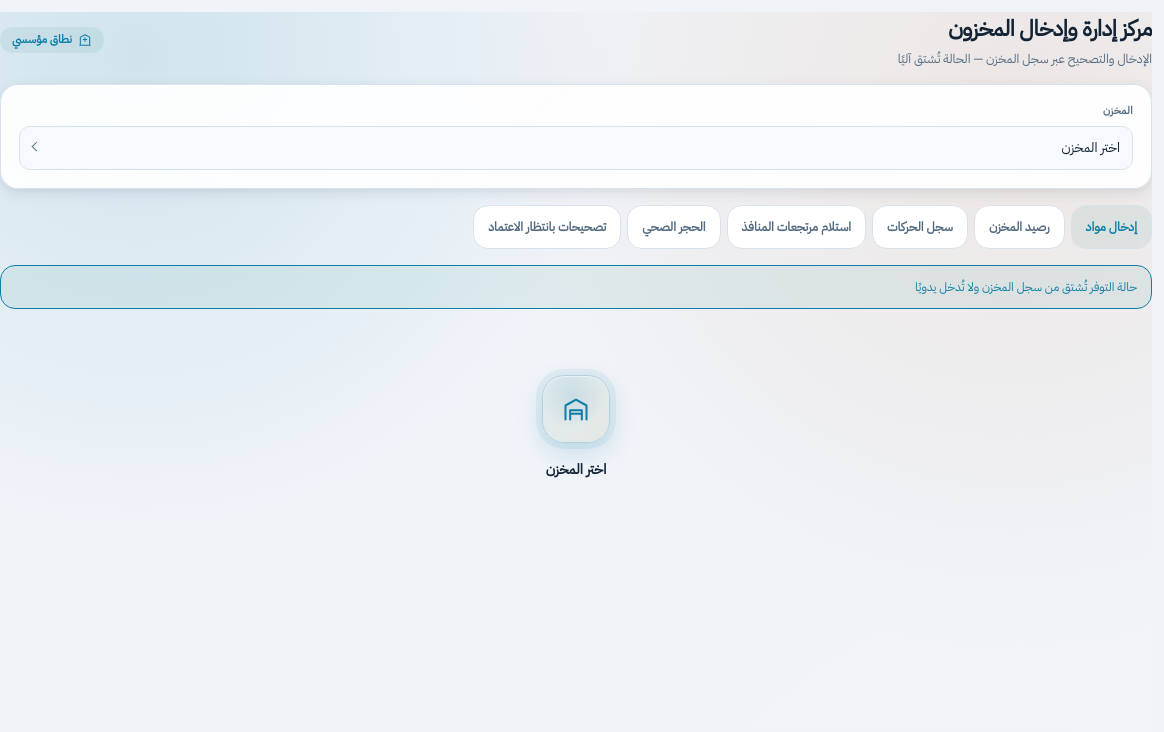
Test: reproduction — how B settling resolves (denied / failed / stale-after-fresh) › B denies the permission: no dispose affordance appears once B answers
Select "مخزن wh-A" in the dropdown labelled "المخزن" at (576, 148), box [19, 126, 1133, 170]
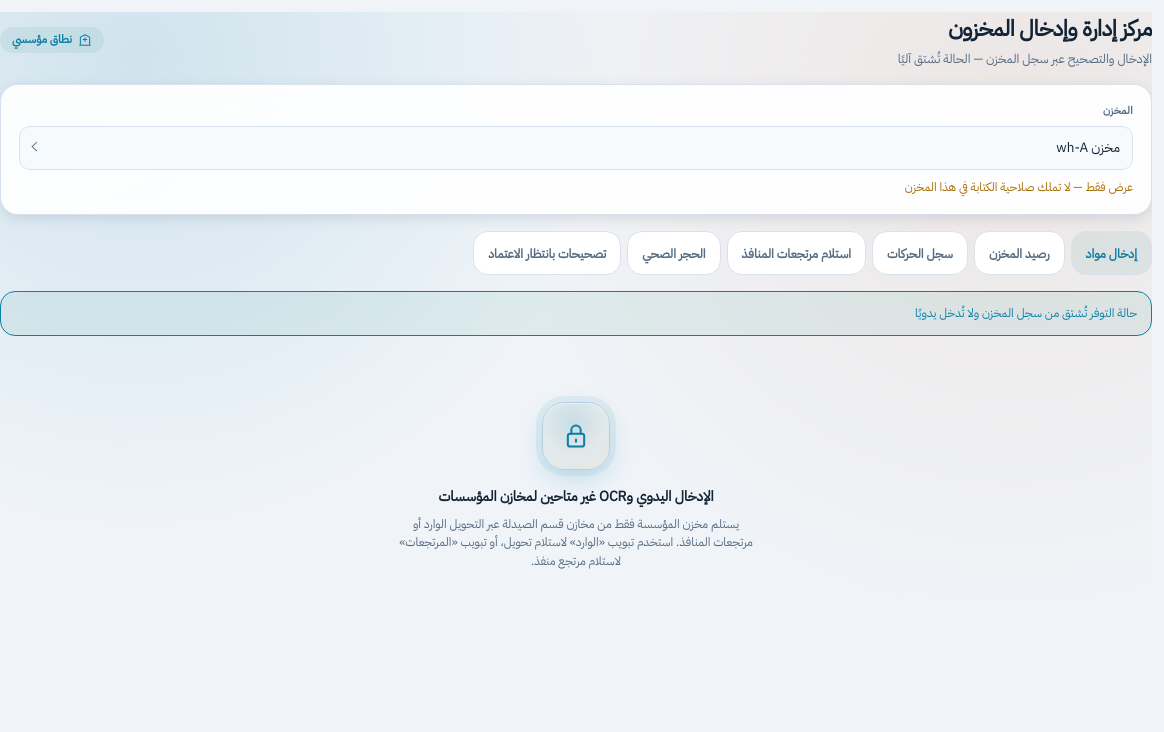
Click the tab "الحجر الصحي" at (674, 253), box [627, 231, 721, 275]
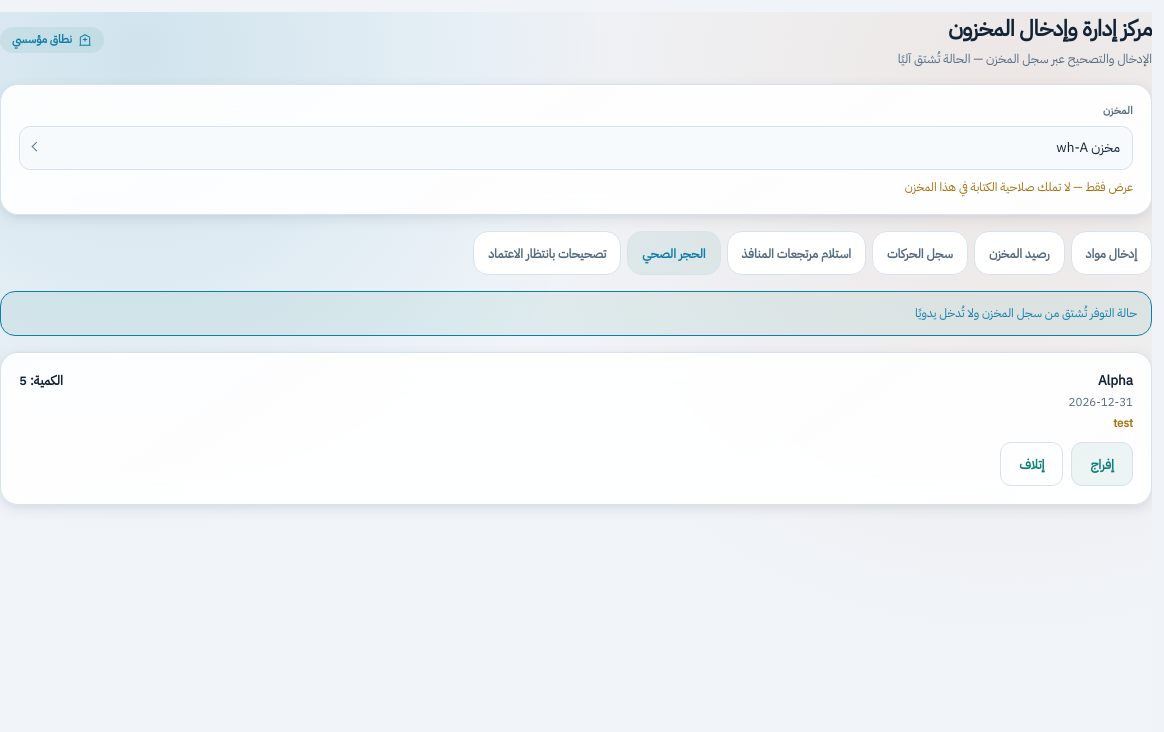
Check: the button "إفراج" is shown, box [1072, 442, 1133, 486]
Select "مخزن wh-B" in the dropdown labelled "المخزن" at (576, 148), box [19, 126, 1133, 170]
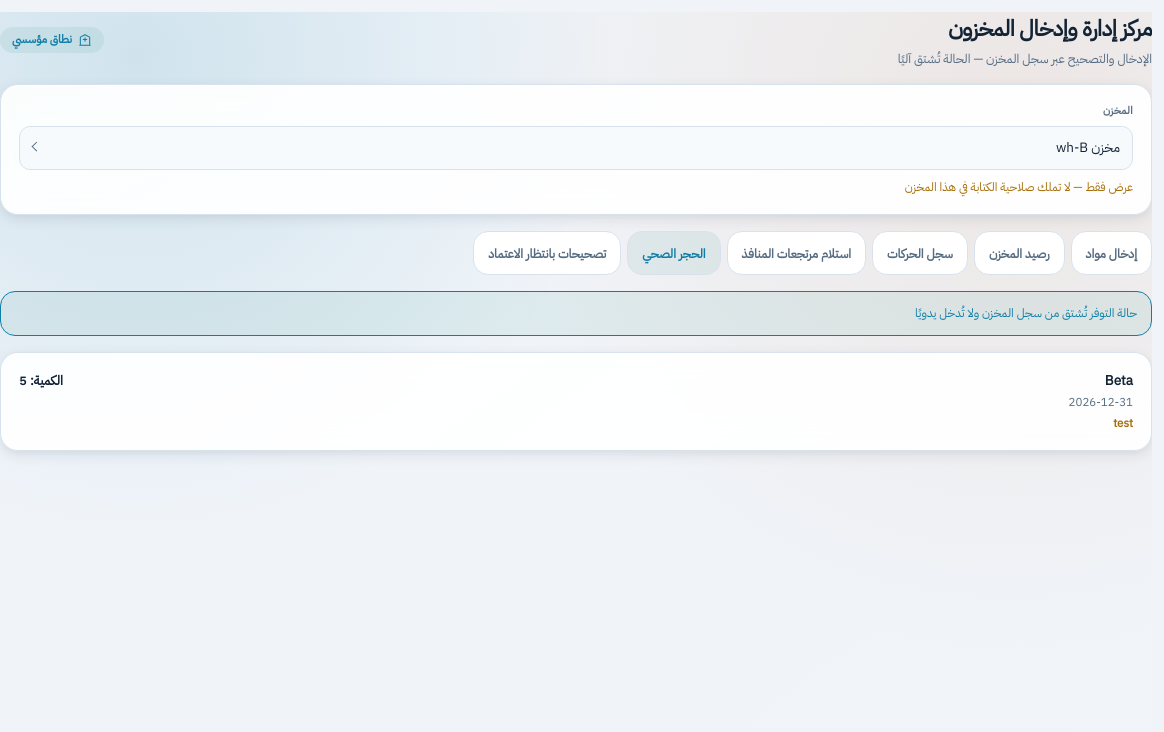
Check: the text "Beta" is shown, box [1105, 370, 1133, 391]
Check: the button "إفراج" is gone
Check: the button "إتلاف" is gone
